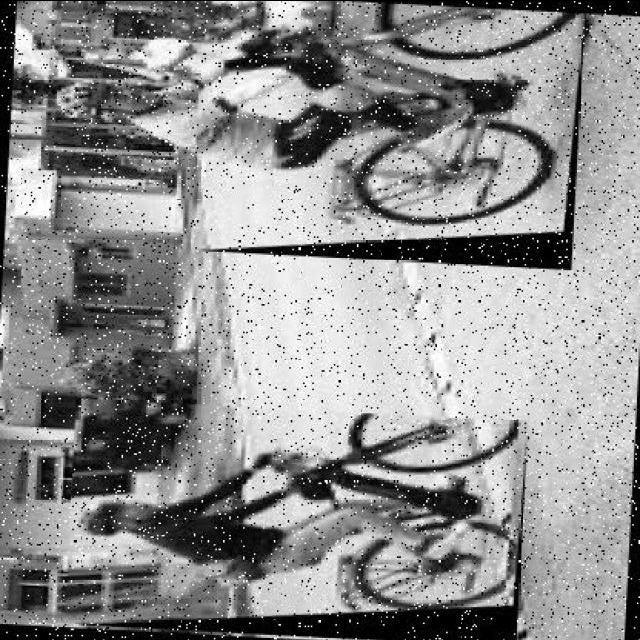bicycle: (64, 398, 530, 640), (190, 2, 587, 273)
